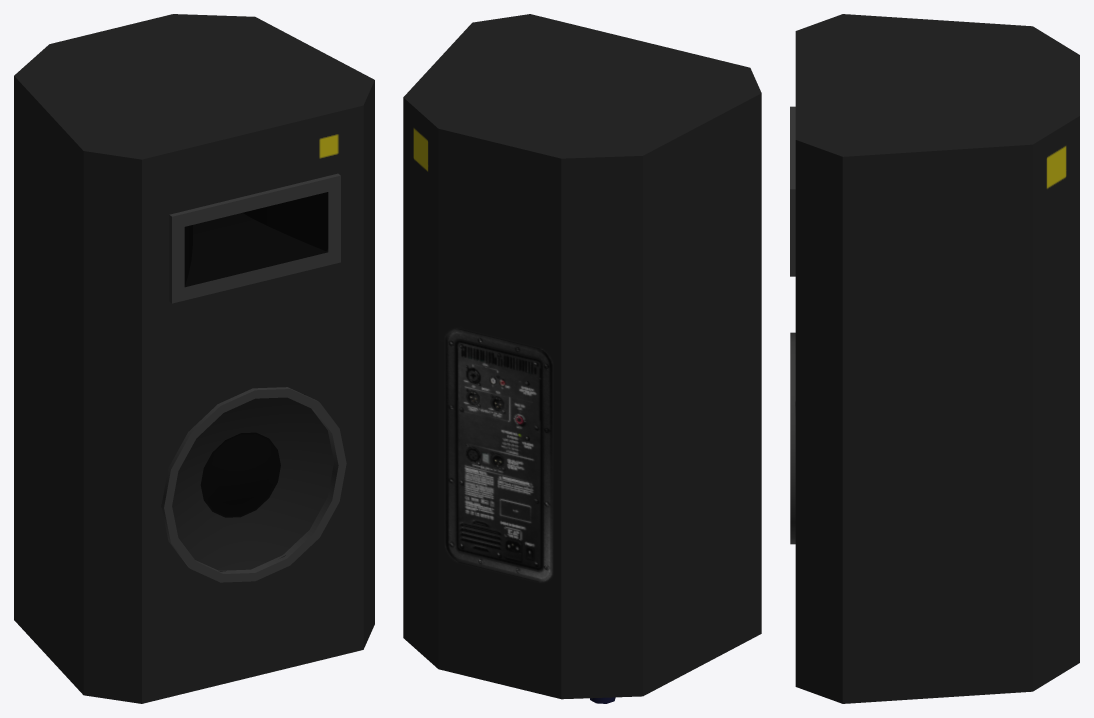
The model's file is uploads_files_2698628_PA_Speakers.fbx.
The picture shows the model from 3 angles, left to right: view 1: azimuth 30°, elevation 25°; view 2: azimuth 150°, elevation 25°; view 3: azimuth 270°, elevation 25°; orthographic projection.
Visible parts, largest first — view 1: PA_speakers; view 2: PA_speakers; view 3: PA_speakers.
Part boxes in pixels (x1=…): PA_speakers: x1=14, y1=14, x2=374, y2=703; PA_speakers: x1=403, y1=14, x2=761, y2=703; PA_speakers: x1=790, y1=14, x2=1079, y2=703.
Bounding box in the file's own units: 192 × 352 × 165.
Materials: 1 (1 with a texture image).
